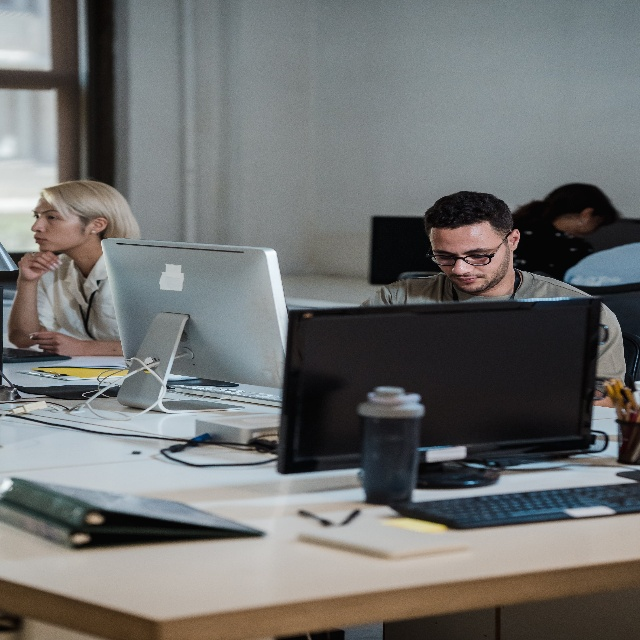Gafas: (425, 230, 511, 266)
Sin_guantes: (18, 250, 63, 282), (28, 331, 79, 357)
